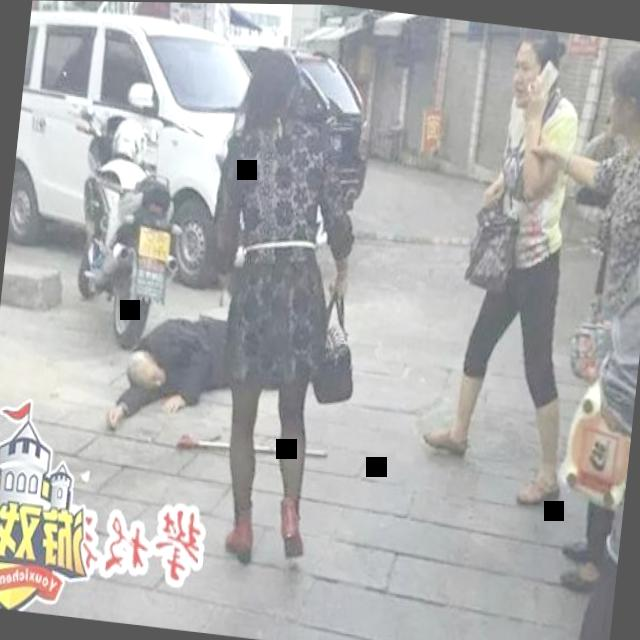Fall-Detected: (95, 276, 288, 455)
